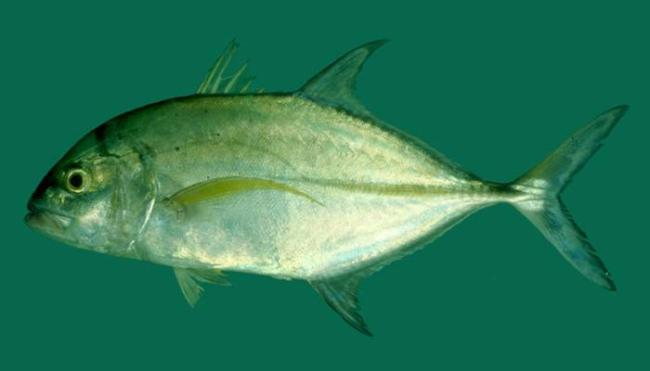fish: (23, 37, 630, 340)
